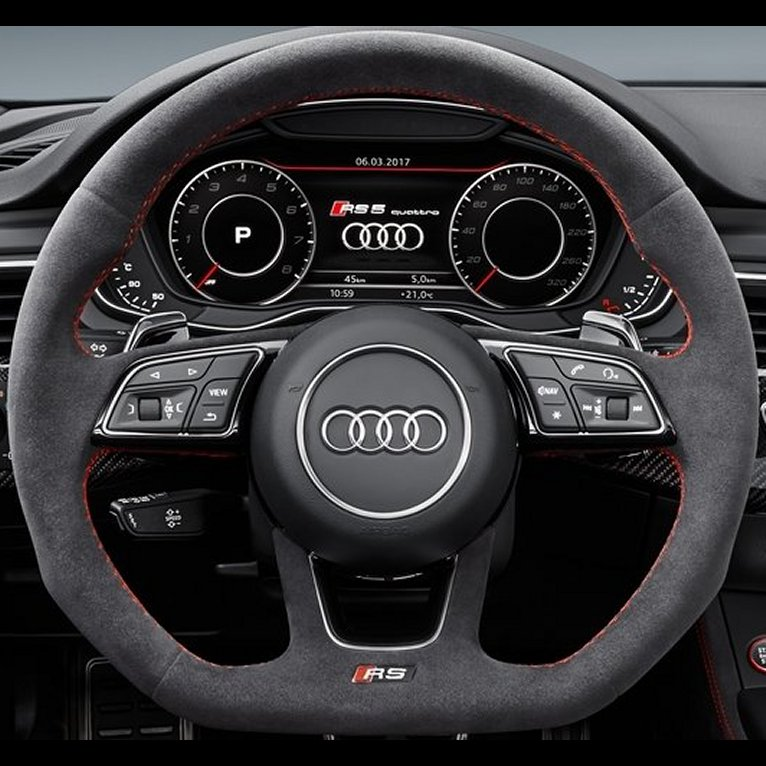audi: (315, 406, 452, 458)
